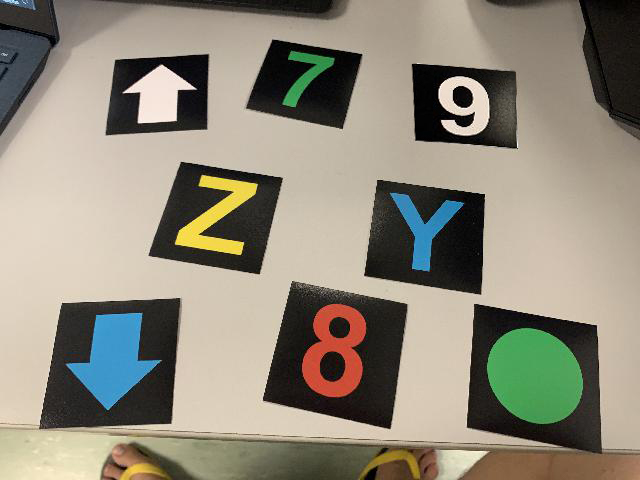alphabet_y: (363, 179, 486, 297)
alphabet_z: (159, 161, 285, 275)
down_arrow: (40, 301, 177, 425)
eight: (275, 281, 409, 431)
go: (466, 301, 604, 455)
nine: (413, 62, 521, 149)
seven: (252, 37, 364, 134)
up_arrow: (108, 55, 209, 131)
